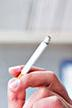smoke: (13, 35, 52, 85)
